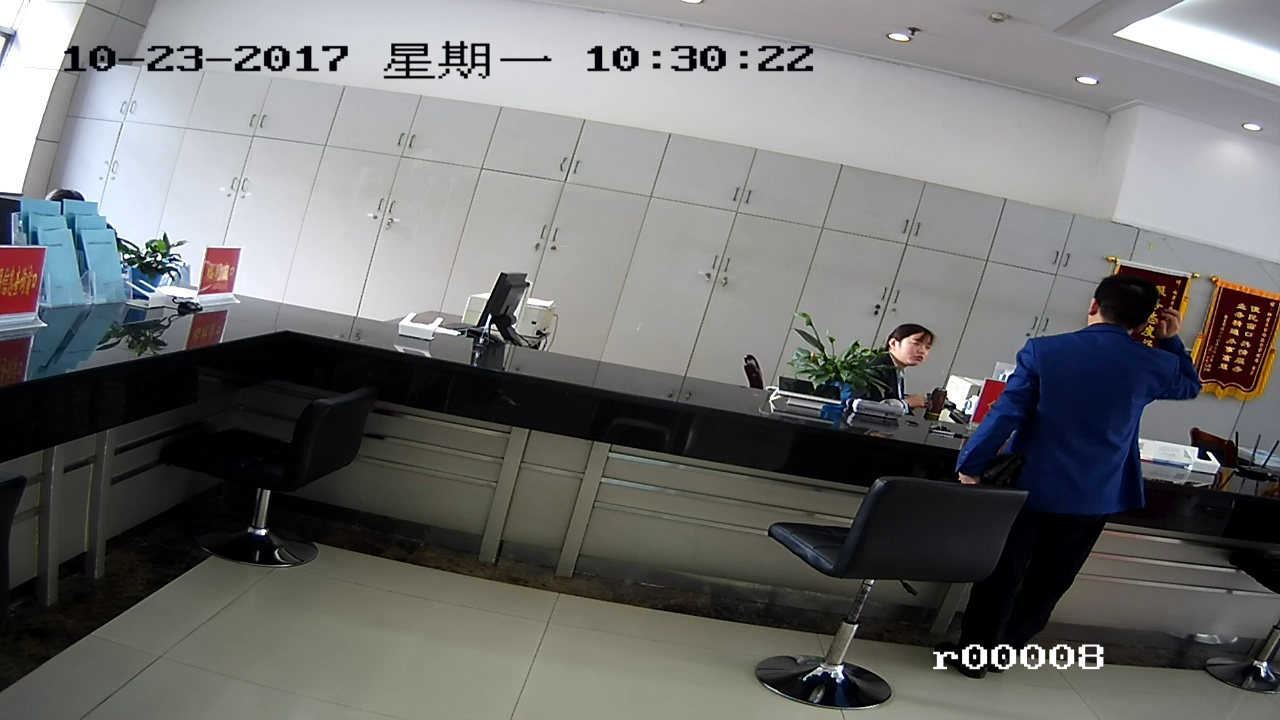billboard: (1219, 283, 1265, 412)
chair: (766, 469, 1015, 704), (178, 399, 378, 583)
person: (1020, 285, 1198, 687), (874, 319, 934, 411)
pot: (797, 323, 871, 412), (143, 234, 185, 287)
